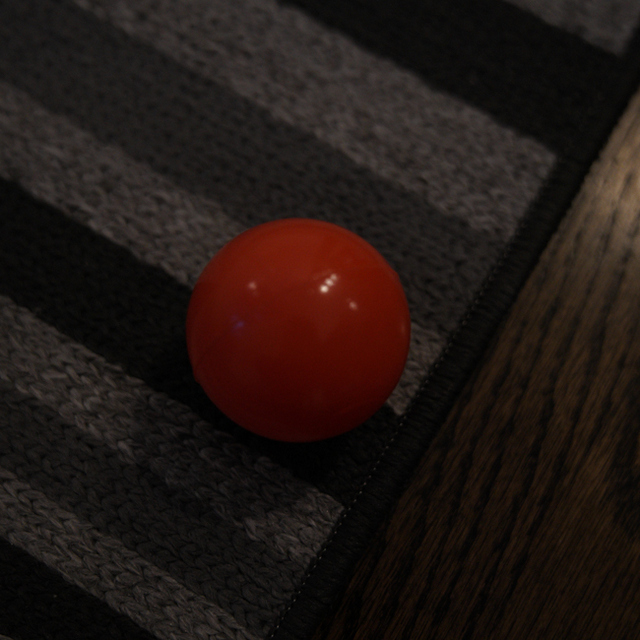Ball: (186, 218, 410, 438)
